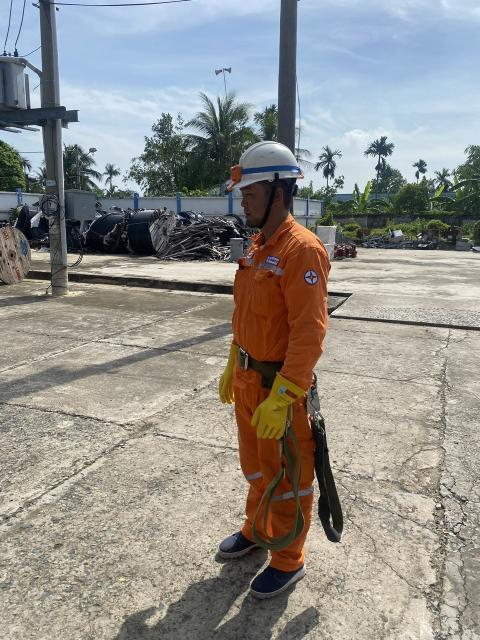gloves: (248, 373, 305, 447), (212, 346, 242, 405)
harness: (228, 344, 307, 390)
helmet: (208, 133, 322, 198)
shoes: (247, 544, 309, 603), (200, 516, 269, 561)
